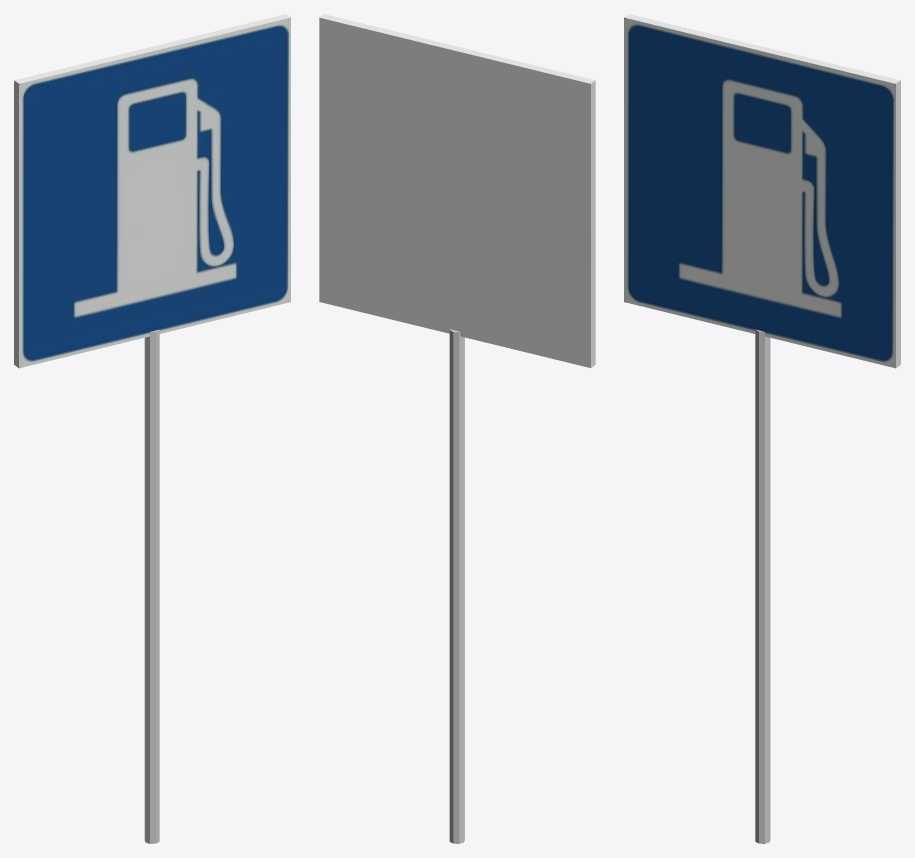
The model's file is letrero de gas.fbx.
3 views of the same model, side by side, from view 1: azimuth 30°, elevation 25°; view 2: azimuth 150°, elevation 25°; view 3: azimuth 330°, elevation 25° (orthographic).
Parts seen in each view (by area): view 1: Cube, Cilindro; view 2: Cube, Cilindro; view 3: Cube, Cilindro.
Part boxes in pixels (left/top/right/bottom): Cube: left=14, top=14, right=290, bottom=368; Cilindro: left=144, top=329, right=159, bottom=843; Cube: left=319, top=14, right=595, bottom=367; Cilindro: left=449, top=329, right=464, bottom=843; Cube: left=624, top=14, right=900, bottom=368; Cilindro: left=755, top=329, right=770, bottom=843.
Size of the model in its own units: 200 by 557 by 10.03.
Materials: 1 (1 with a texture image).
